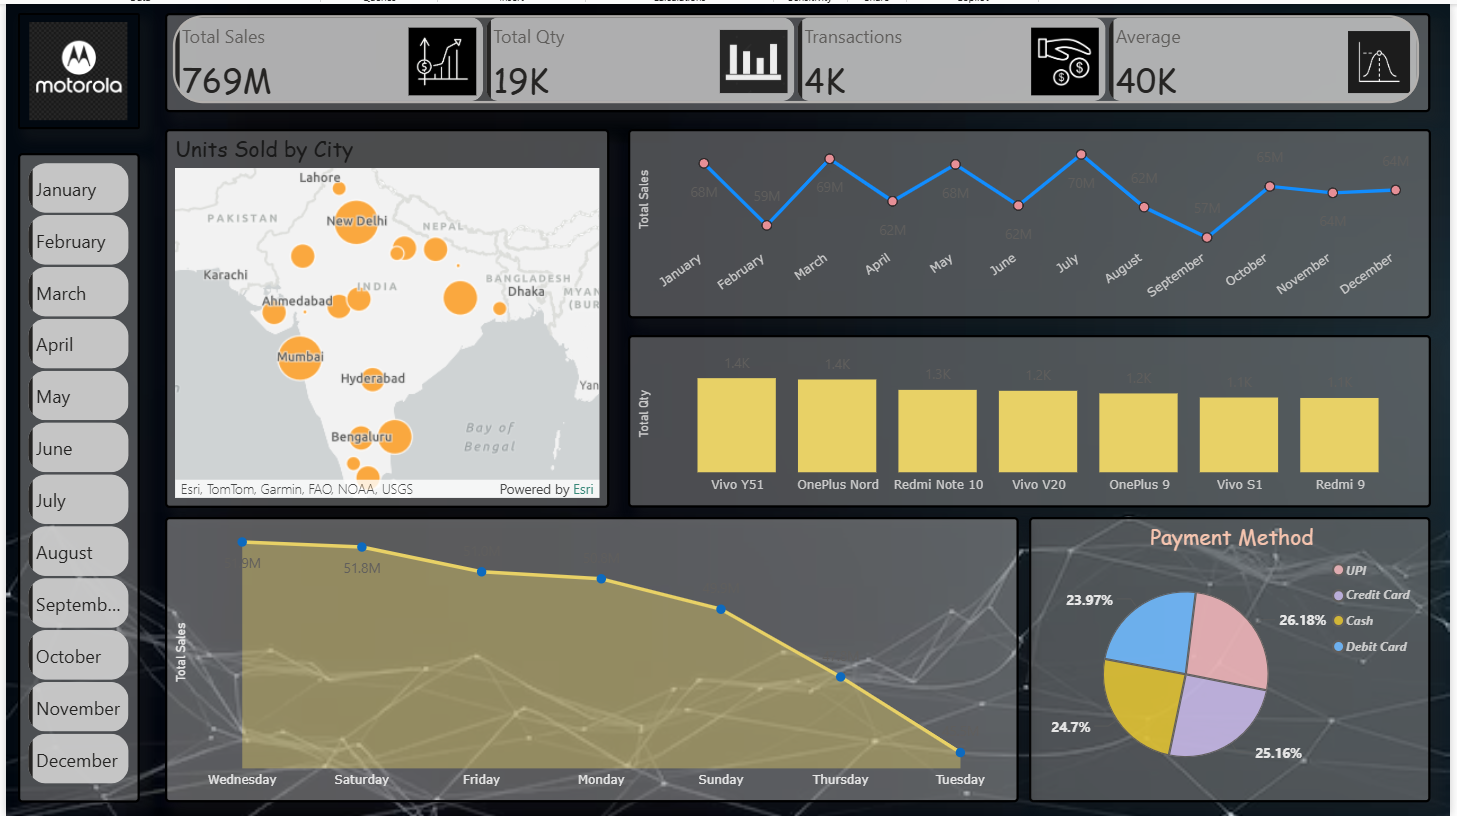

What the dashboard file says about the page in this screenshot:
{"tool":"powerbi","page":{"name":"Page 1","canvas":[1280,720],"ordinal":0},"visuals":[{"type":"image","box":[10.7,7.8,108,103.1],"z":0},{"type":"advancedSlicerVisual","fields":{"Values":["Sales Data.Date.Variation.Date Hierarchy.Month"]},"box":[10.7,132.3,108,575.8],"z":1000},{"type":"cardVisual","fields":{"Data":["Sales Data.Total Sales","Sales Data.Total Qty","Sales Data.Transactions","Sales Data.Average"]},"box":[141,7.8,1122.4,87.5],"z":2000},{"type":"esriVisual","title":"Units Sold by City","fields":{"Location":["Sales Data.City"],"Size":["Sum(Sales Data.Units Sold)"]},"box":[141,110.9,393.9,335.6],"z":3000},{"type":"lineChart","fields":{"Y":["Sales Data.Total Sales"],"Category":["Sales Data.Date.Variation.Date Hierarchy.Month"]},"box":[551.5,110.9,712,168.3],"z":4000},{"type":"columnChart","fields":{"Category":["Sales Data.Mobile Model"],"Y":["Sales Data.Total Qty"]},"box":[551.5,293.7,712,152.7],"z":5000},{"type":"pieChart","title":" Payment Method","fields":{"Category":["Sales Data.Payment Method"],"Y":["Sales Data.Transactions"]},"box":[907.5,455.2,356,252.9],"z":6000},{"type":"areaChart","fields":{"Category":["Sales Data.Day Name"],"Y":["Sales Data.Total Sales"]},"box":[141,455.2,756.7,252.9],"z":7000}]}

Visuals, with their boxes in screenshot pixels (x1, y1, x2, y2), scaled from the page's 1280x720 canvas onto the 1457x816 screenshot:
image: <region>12, 9, 135, 126</region>
advancedSlicerVisual - Sales Data.Date.Variation.Date Hierarchy.Month: <region>12, 150, 135, 803</region>
cardVisual - Sales Data.Total Sales x Sales Data.Total Qty: <region>160, 9, 1438, 108</region>
"Units Sold by City" esriVisual: <region>160, 126, 609, 506</region>
lineChart - Sales Data.Total Sales x Sales Data.Date.Variation.Date Hierarchy.Month: <region>628, 126, 1438, 316</region>
columnChart - Sales Data.Mobile Model x Sales Data.Total Qty: <region>628, 333, 1438, 506</region>
" Payment Method" pieChart: <region>1033, 516, 1438, 803</region>
areaChart - Sales Data.Day Name x Sales Data.Total Sales: <region>160, 516, 1022, 803</region>
